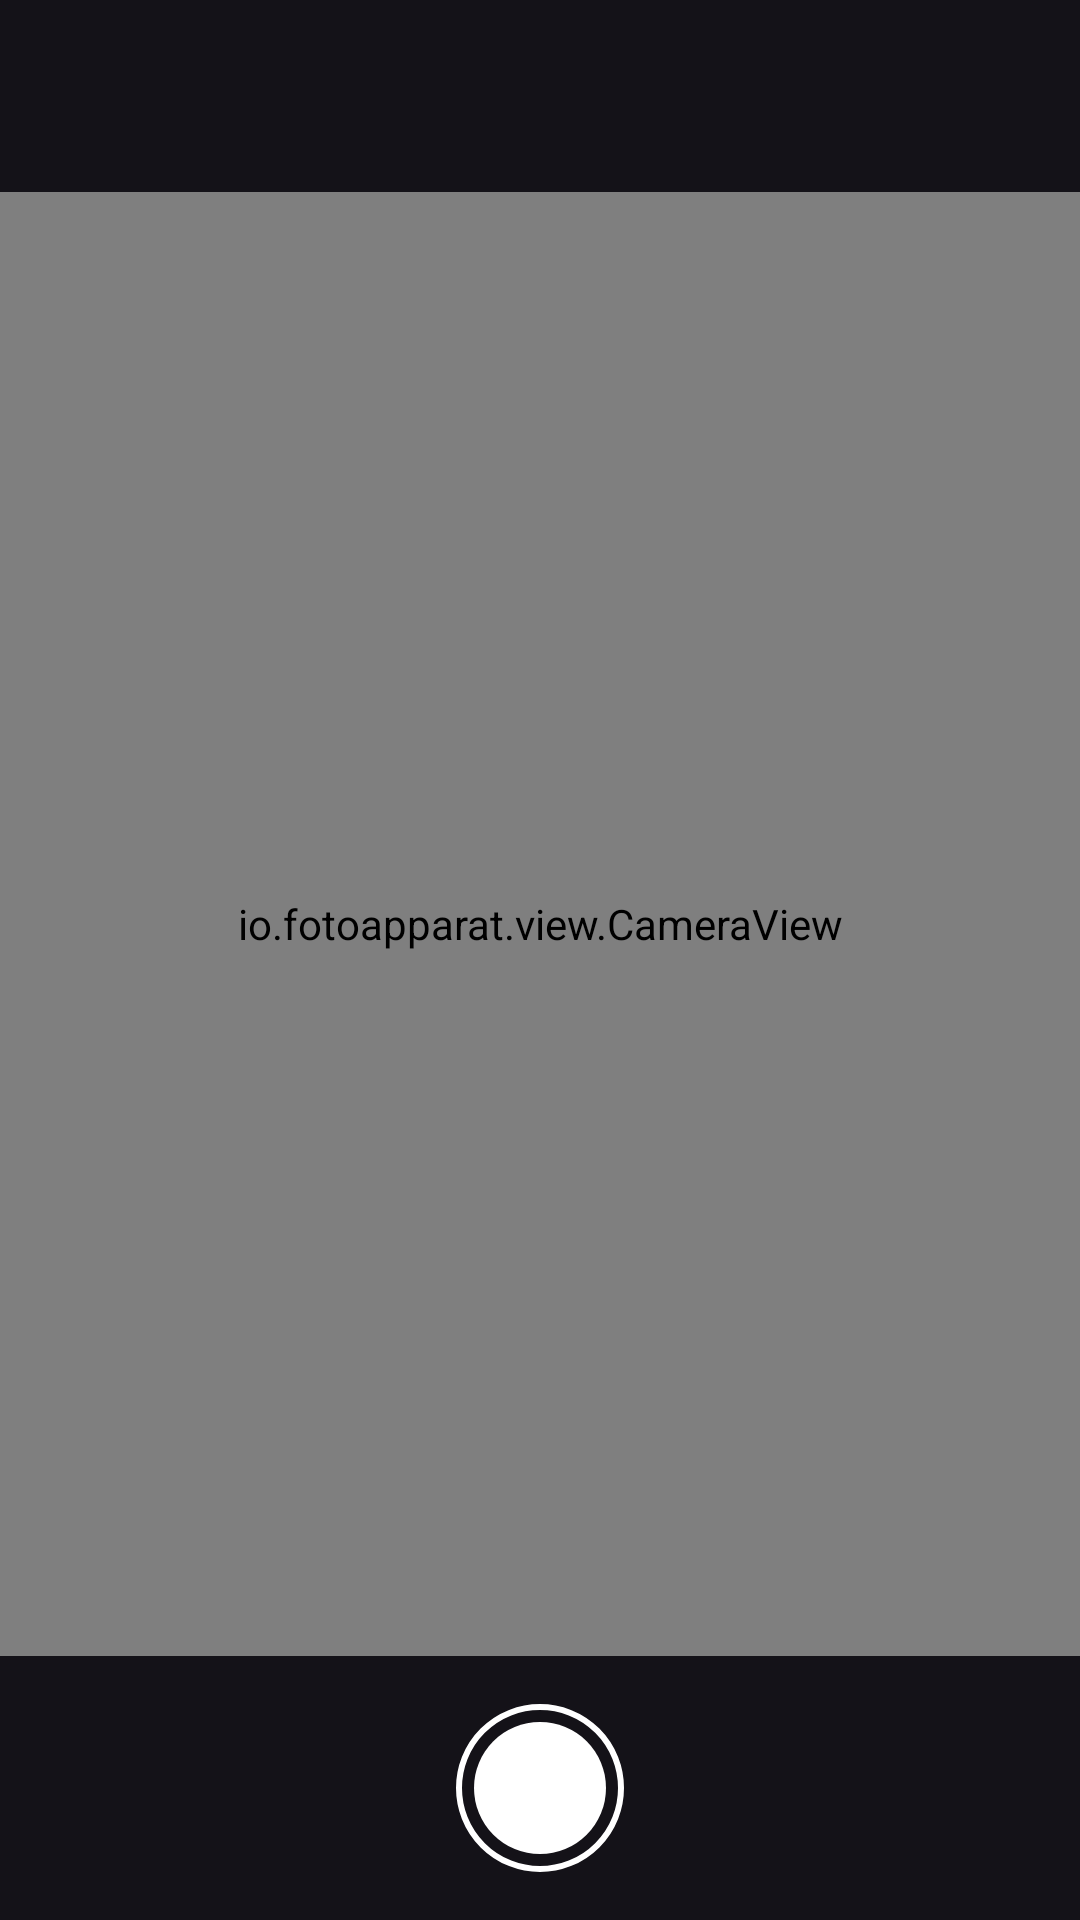

Icon bounding boxes for this 1080 x 1920 phone screenshot, format (x1, y1, x2, y2):
take photo: (456, 1704, 624, 1872)
